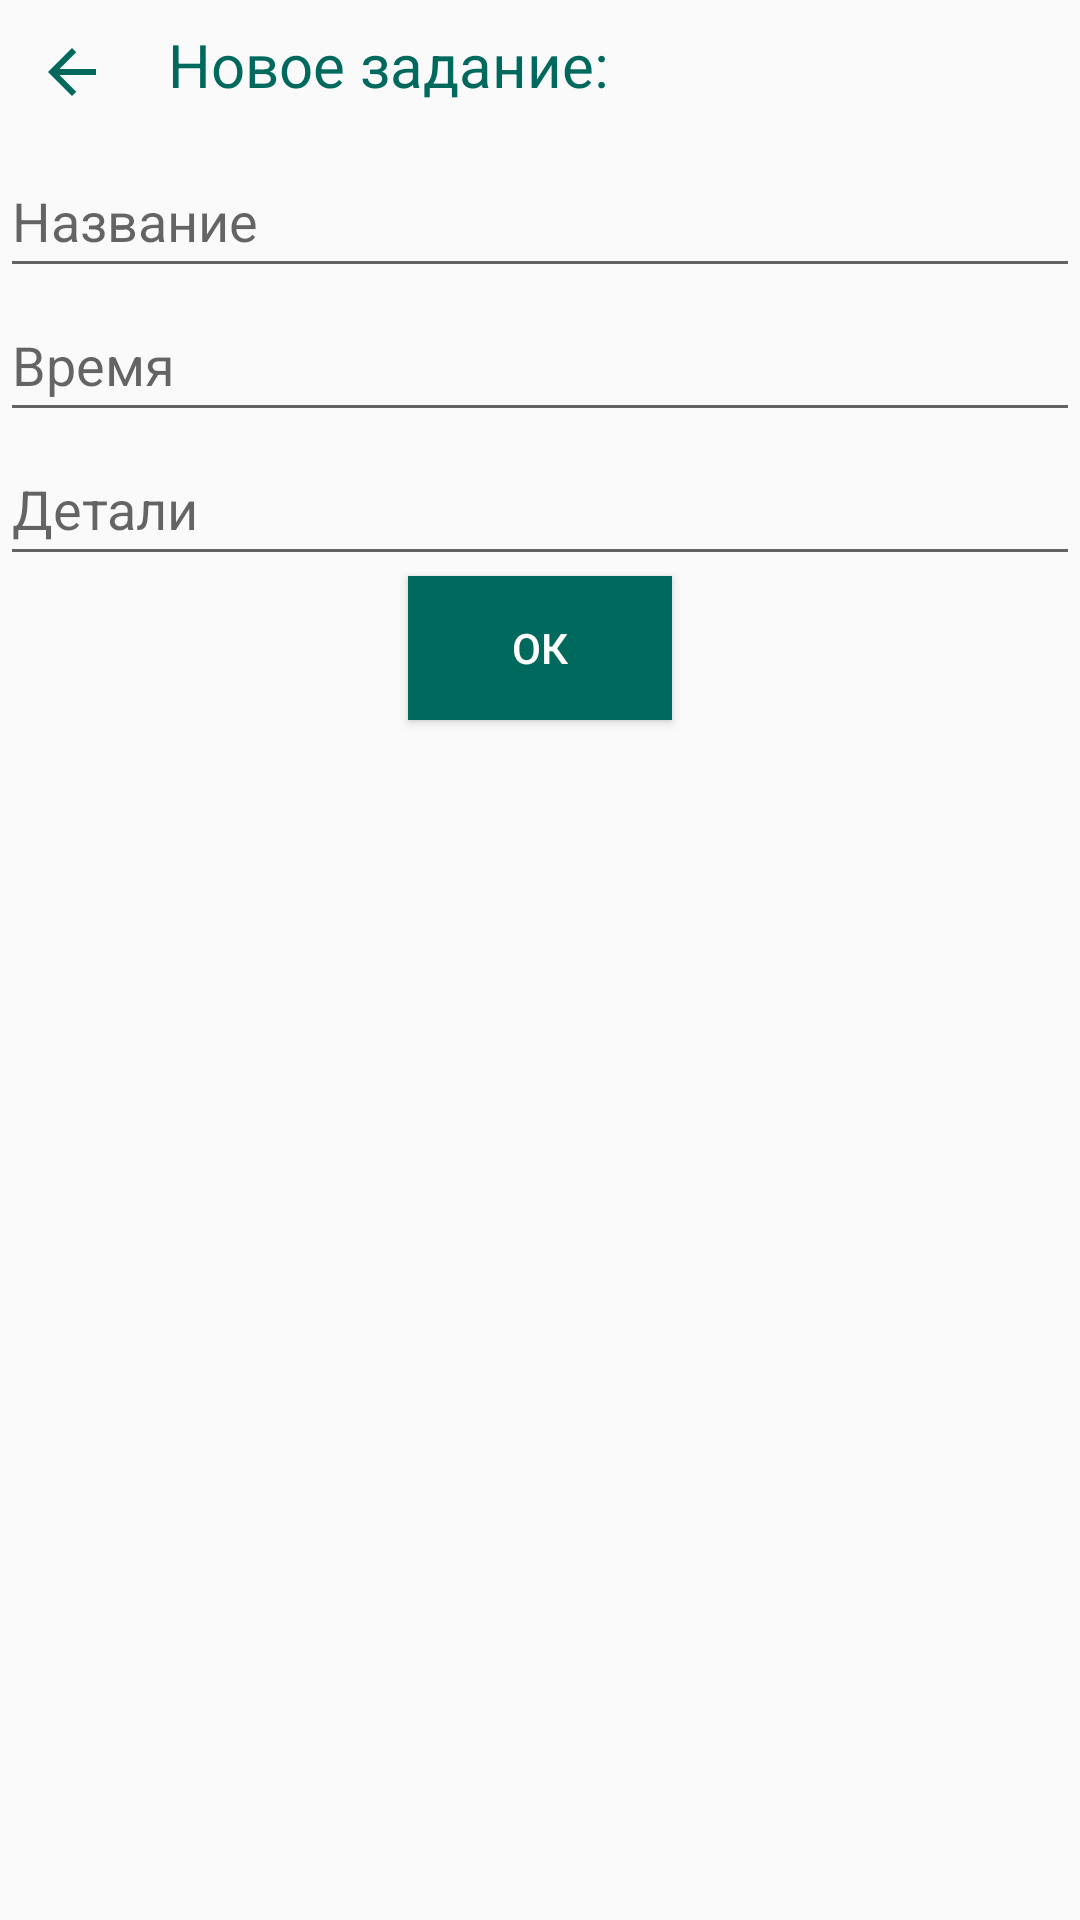

Icon bounding boxes for this 1080*1920 phone screenshot, format (x1, y1, x2, y2):
arrow back: (48, 48, 96, 96)
